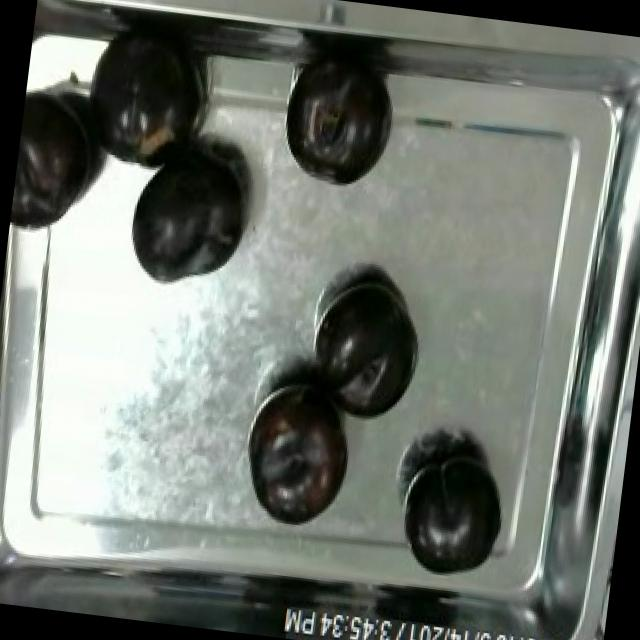Fruit: (65, 21, 212, 184), (117, 140, 262, 298), (236, 372, 362, 536), (306, 268, 432, 432), (392, 438, 516, 586), (277, 56, 399, 192), (8, 79, 106, 242)
